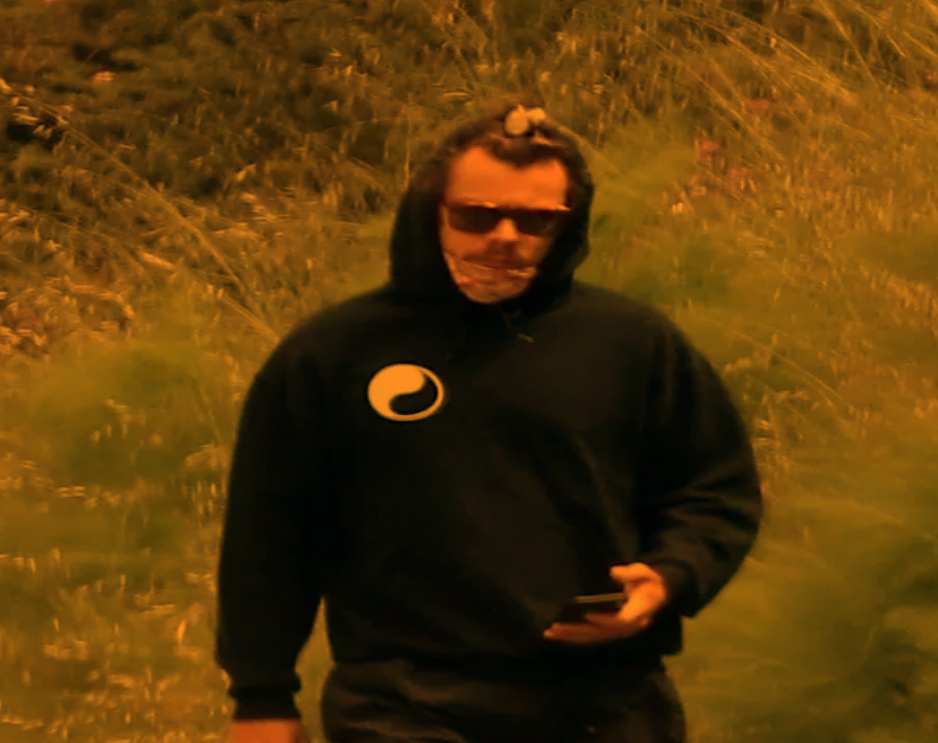mask_weared_incorrect: (412, 126, 592, 312)
